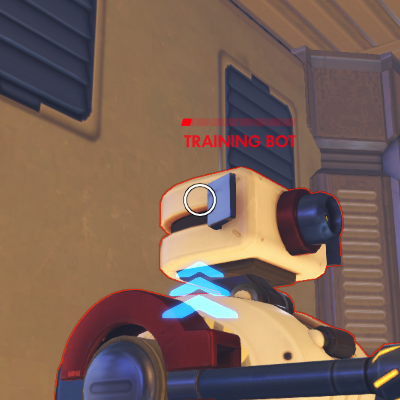hpbar: (181, 118, 297, 127)
